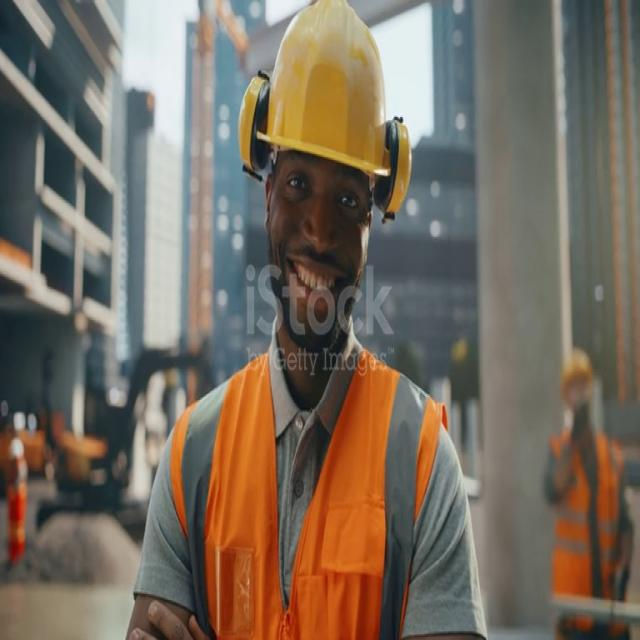capacete: (245, 0, 419, 221)
